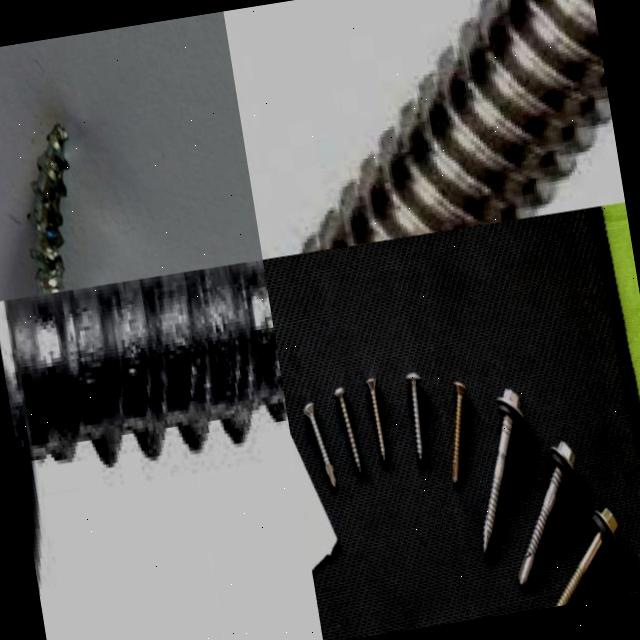Screw: (0, 260, 288, 571), (297, 0, 613, 254), (518, 441, 576, 585), (30, 123, 69, 296), (483, 388, 524, 552), (555, 507, 619, 607), (303, 401, 336, 487), (334, 386, 361, 472), (366, 377, 386, 461), (452, 381, 467, 484), (406, 371, 423, 460)
